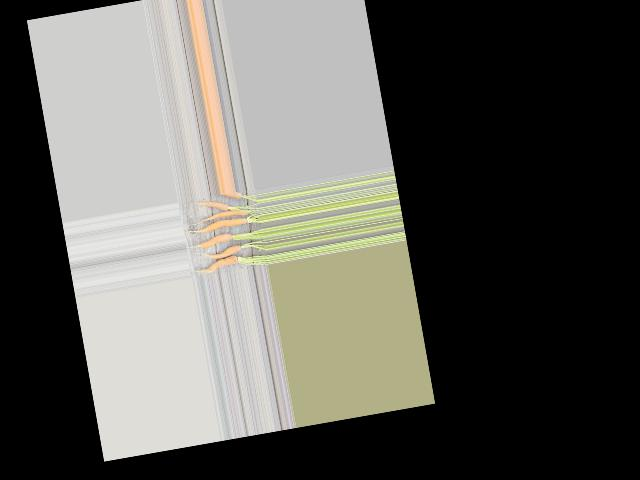carrot: (226, 189, 250, 204)
